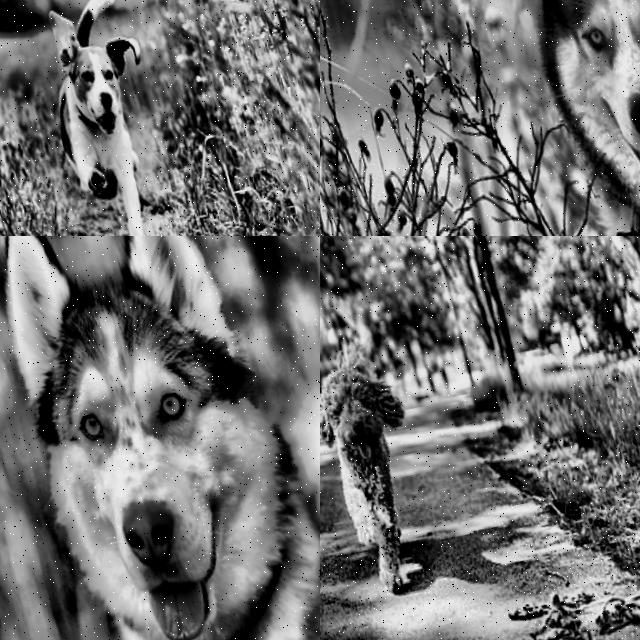beagle: (32, 0, 166, 151)
husky: (0, 236, 320, 640), (475, 0, 640, 236)
poodle: (320, 321, 424, 478)
